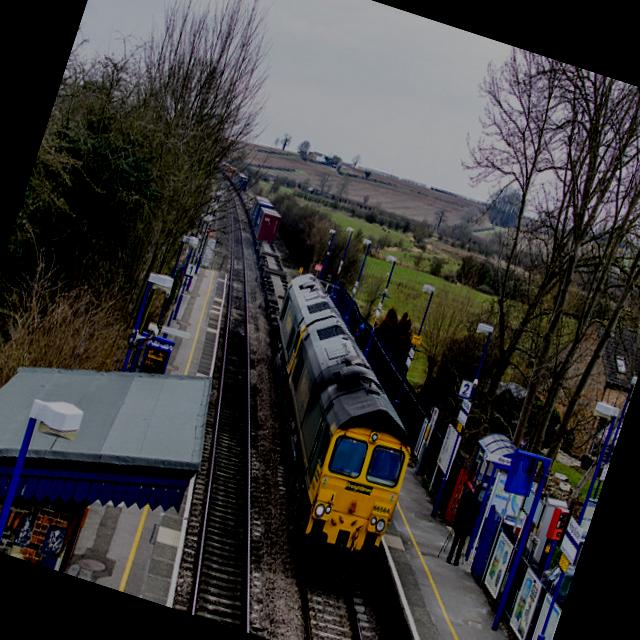Vehicle: (540, 564, 574, 622)
